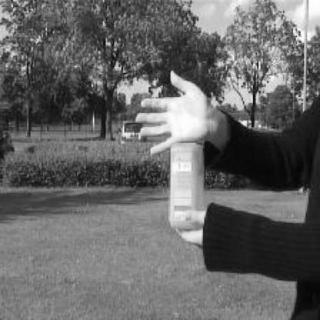other: (134, 90, 221, 138)
